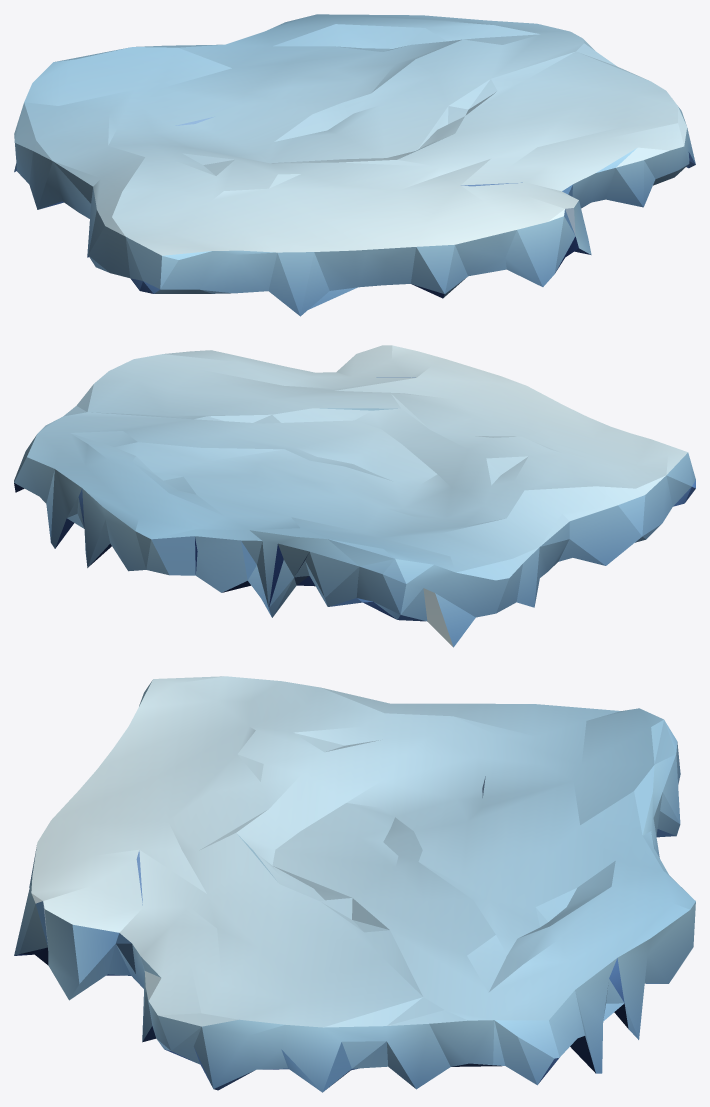
File: Floor-IcePatch-1.glb
The picture shows the model from 3 angles, top to bottom: view 1: azimuth 30°, elevation 25°; view 2: azimuth 150°, elevation 25°; view 3: azimuth 270°, elevation 25°; orthographic projection. The views are drawn at different scales.
Visible parts, largest first — view 1: Floor-IcePatch-1-col; view 2: Floor-IcePatch-1-col; view 3: Floor-IcePatch-1-col.
Boxes of the visible parts, box(x1,y1,x2,y2) form: Floor-IcePatch-1-col: box(14, 14, 695, 316); Floor-IcePatch-1-col: box(14, 345, 695, 647); Floor-IcePatch-1-col: box(14, 676, 695, 1092).
Bounding box in the file's own units: 7.06 × 1.21 × 5.87.
Materials: 1 (1 with a texture image).
